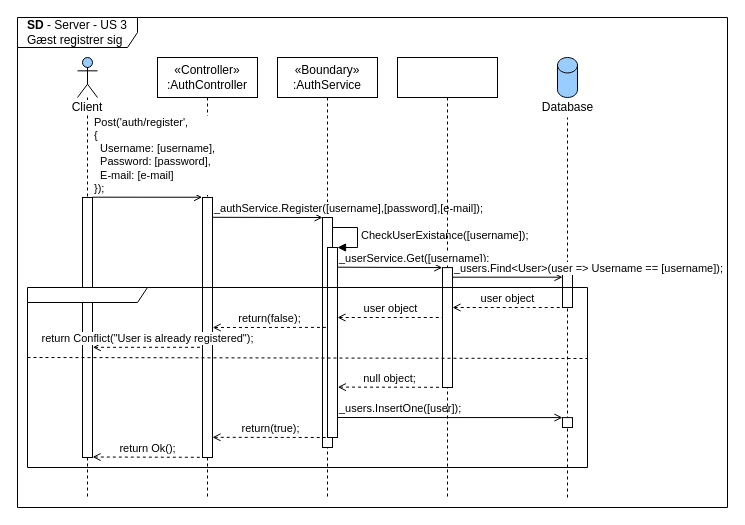
The diagram is 745 pixels wide and 525 high, and some of its shapes have lost their labels. Here are the shapes that lost their labels. From the top down, the centre of each, then its label:
At pixel 447 277: "«Boundary» :UserService".
At pixel 307 377: "ALT user existance".
